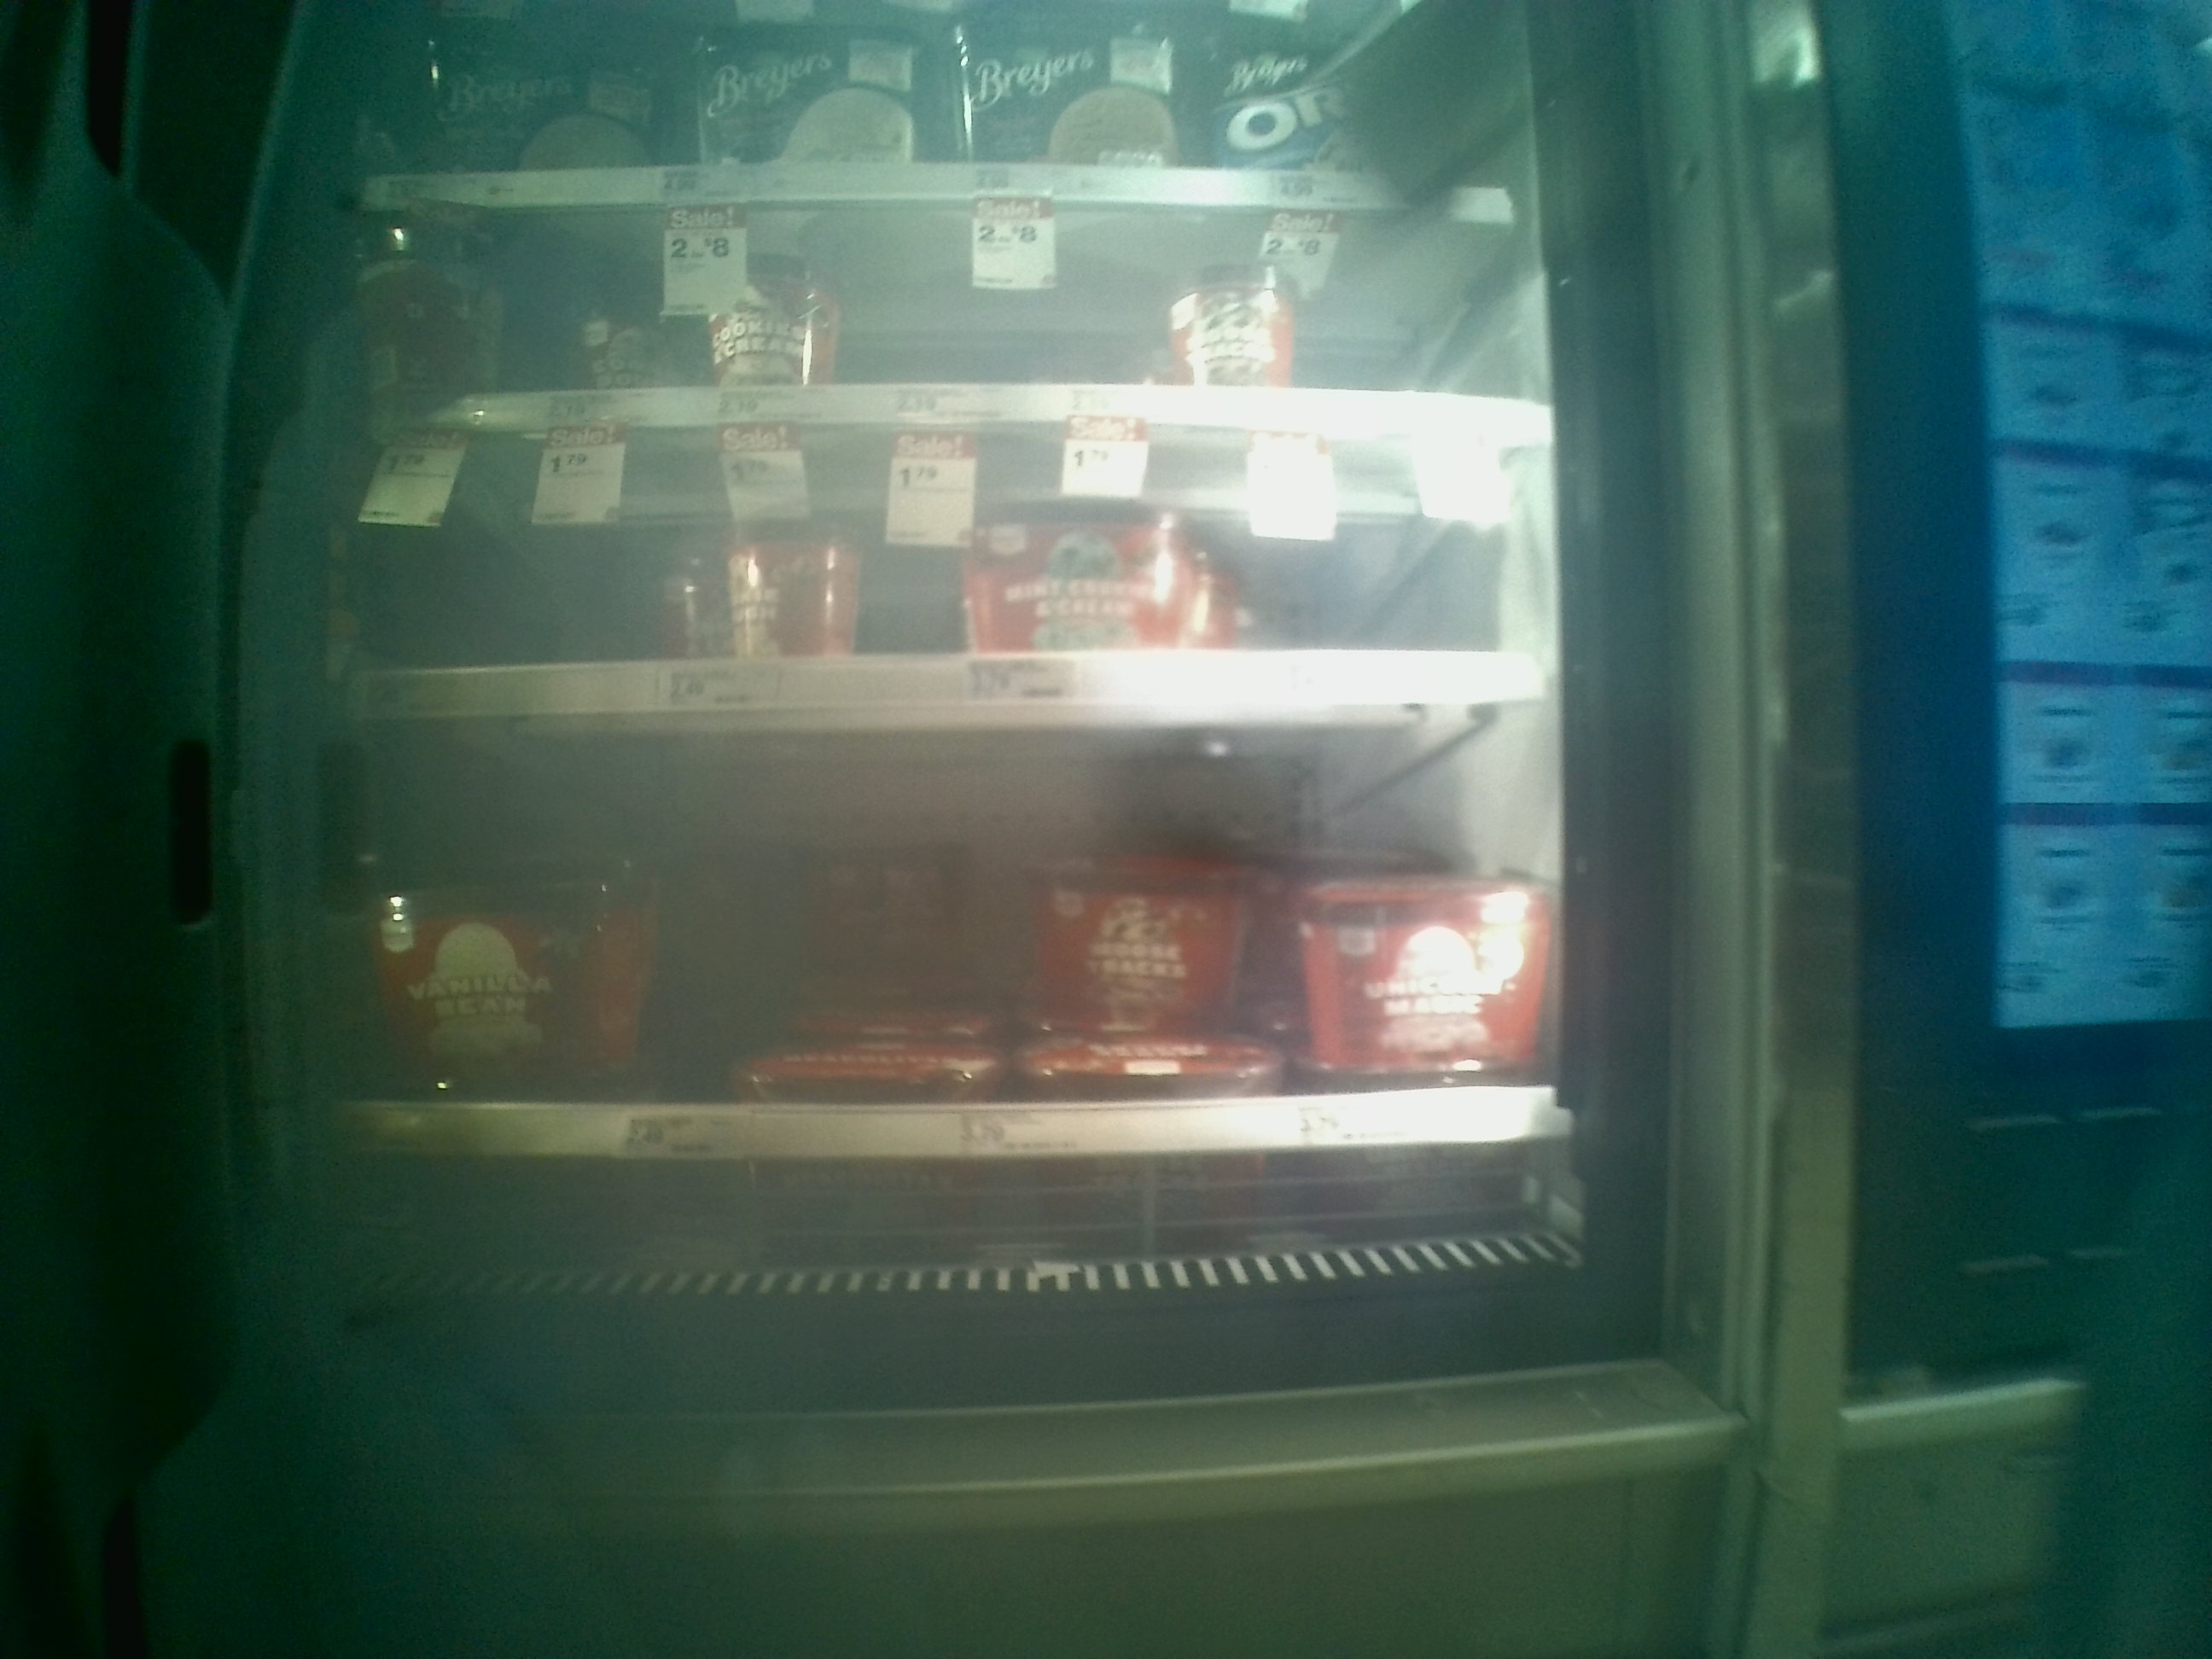shelf: (341, 721, 1566, 1195), (340, 430, 1569, 716), (326, 204, 1561, 432)
